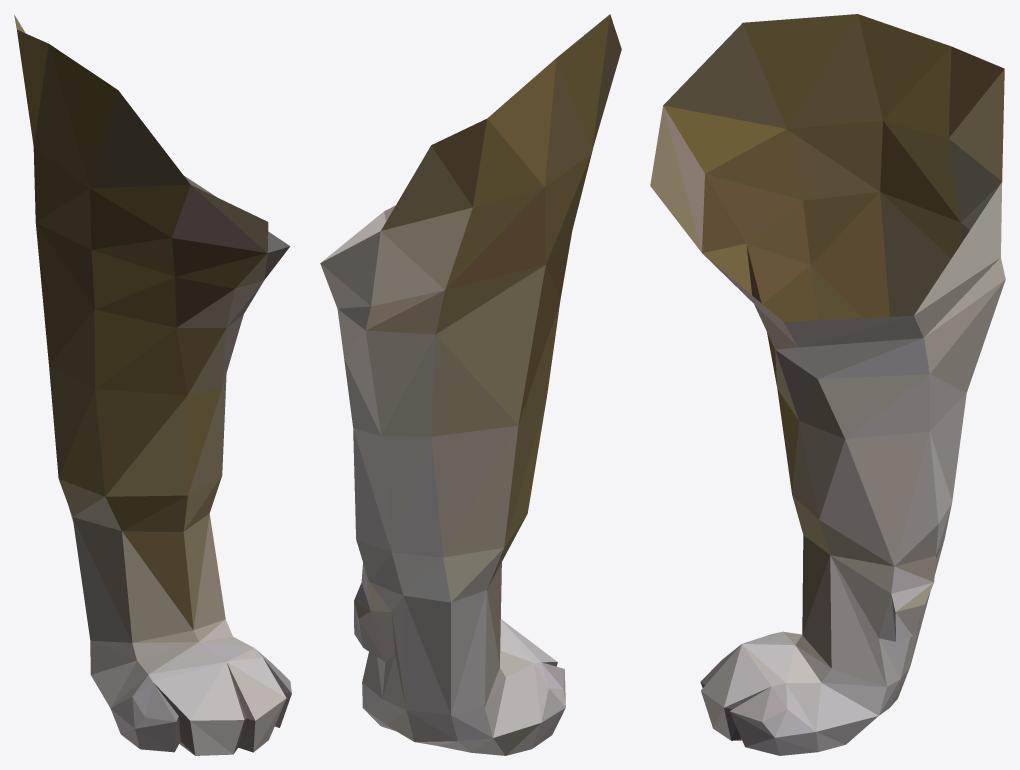
The model's file is PataDelIzq.obj.
3 renders of one model, left to right at view 1: azimuth 30°, elevation 25°; view 2: azimuth 150°, elevation 25°; view 3: azimuth 270°, elevation 25°, orthographic. The views are drawn at different scales.
Visible parts, largest first — view 1: PataDelIzq1:cat_01_color05 group2; view 2: PataDelIzq1:cat_01_color05 group2; view 3: PataDelIzq1:cat_01_color05 group2.
Part boxes in pixels (x1,y1,x2,y2): PataDelIzq1:cat_01_color05 group2: (14,14,291,755); PataDelIzq1:cat_01_color05 group2: (320,14,621,755); PataDelIzq1:cat_01_color05 group2: (650,14,1005,755).
Bounding box in the file's own units: 0.1429 × 0.4595 × 0.225.
1 material, 1 textured.
